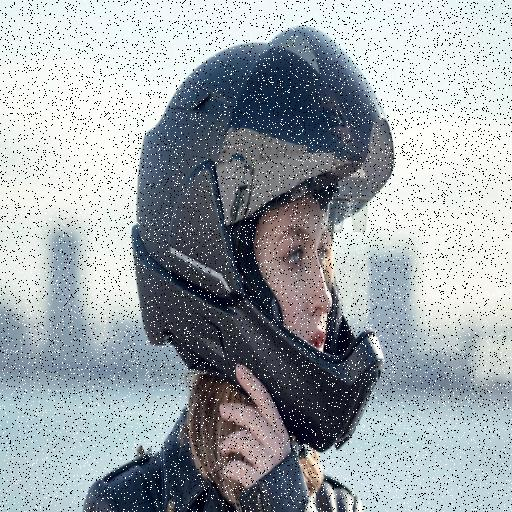Helmet: (114, 58, 424, 424)
